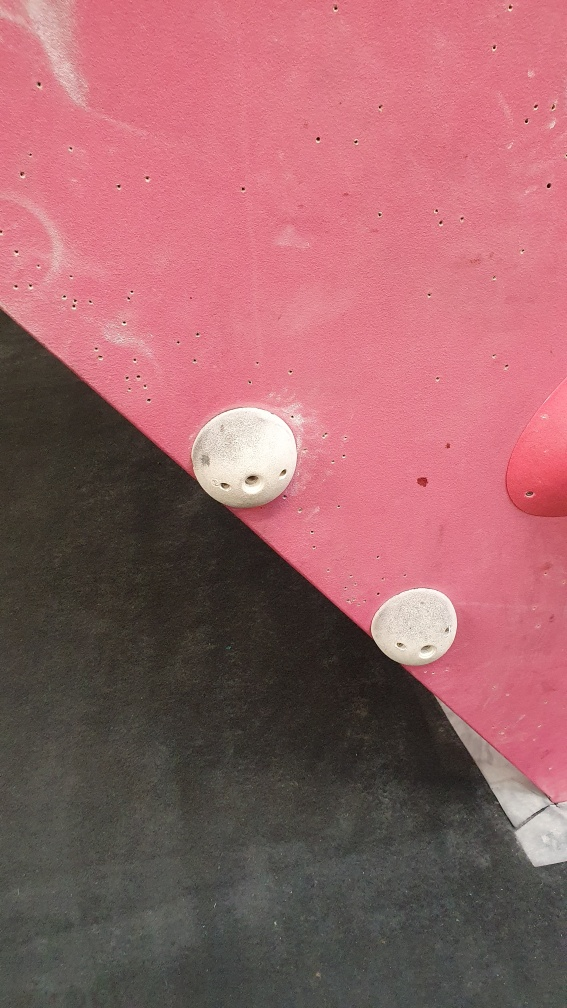Sloper: (191, 402, 303, 514), (368, 585, 462, 672)
